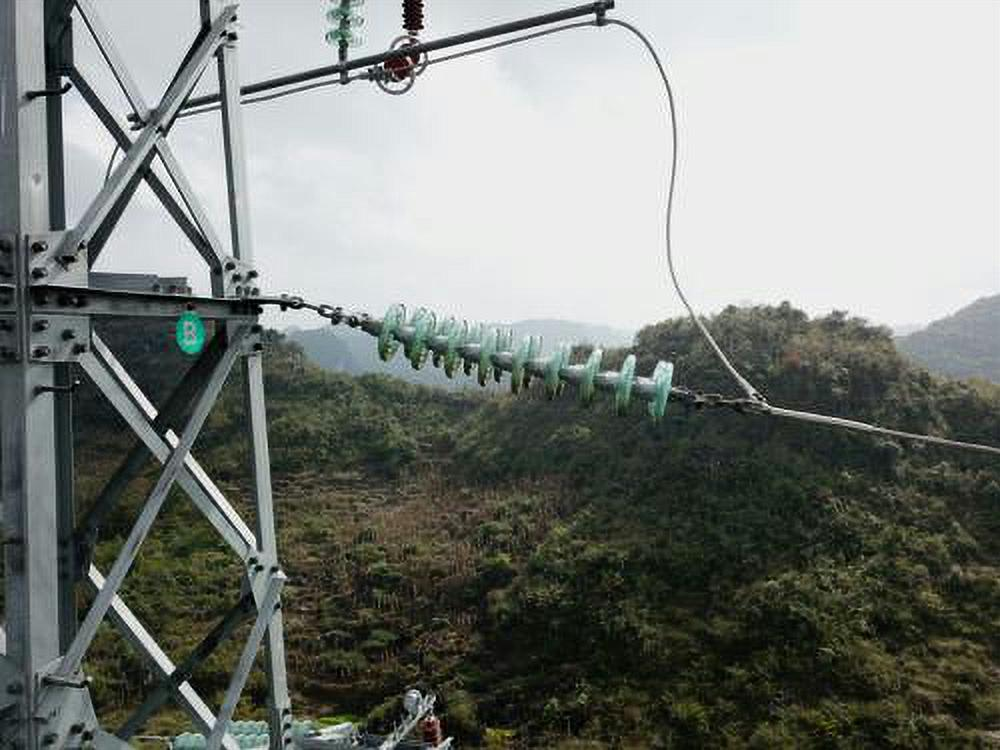insulator: (370, 300, 679, 427), (165, 710, 321, 750), (316, 1, 373, 53)
